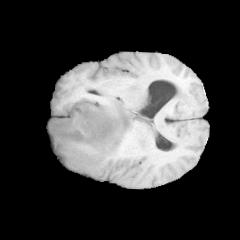glioma: (49, 97, 132, 171)
